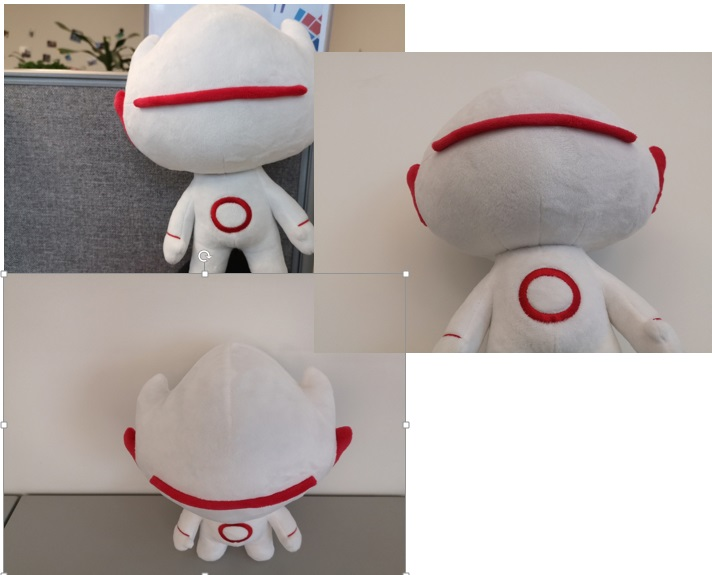yunbao: (392, 84, 688, 360), (105, 13, 330, 277), (107, 333, 357, 567)
